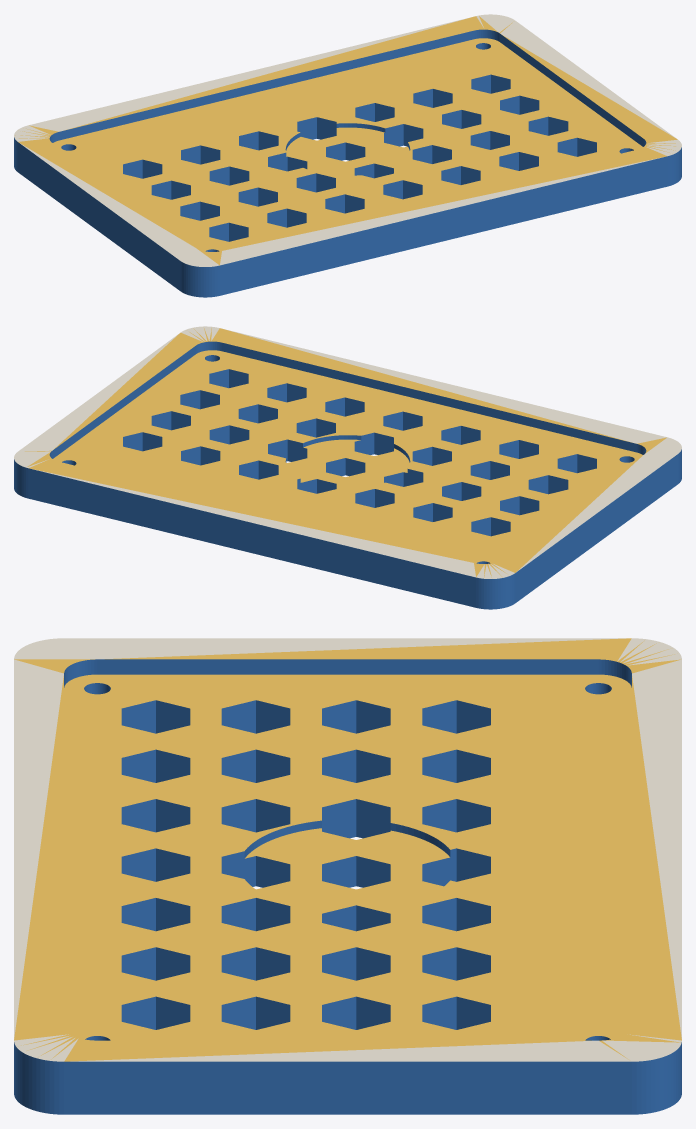
File: panel-colors.glb
3 views of the same model, one above another, from view 1: azimuth 30°, elevation 25°; view 2: azimuth 150°, elevation 25°; view 3: azimuth 270°, elevation 25° (orthographic). The views are drawn at different scales.
Visible parts, largest first — view 1: decor-panel; view 2: decor-panel; view 3: decor-panel.
Part boxes in pixels (bbox=[...]): decor-panel: bbox=[14, 14, 681, 297]; decor-panel: bbox=[14, 326, 681, 609]; decor-panel: bbox=[14, 638, 681, 1114].
Size of the model in its own units: 240 by 14 by 160.
